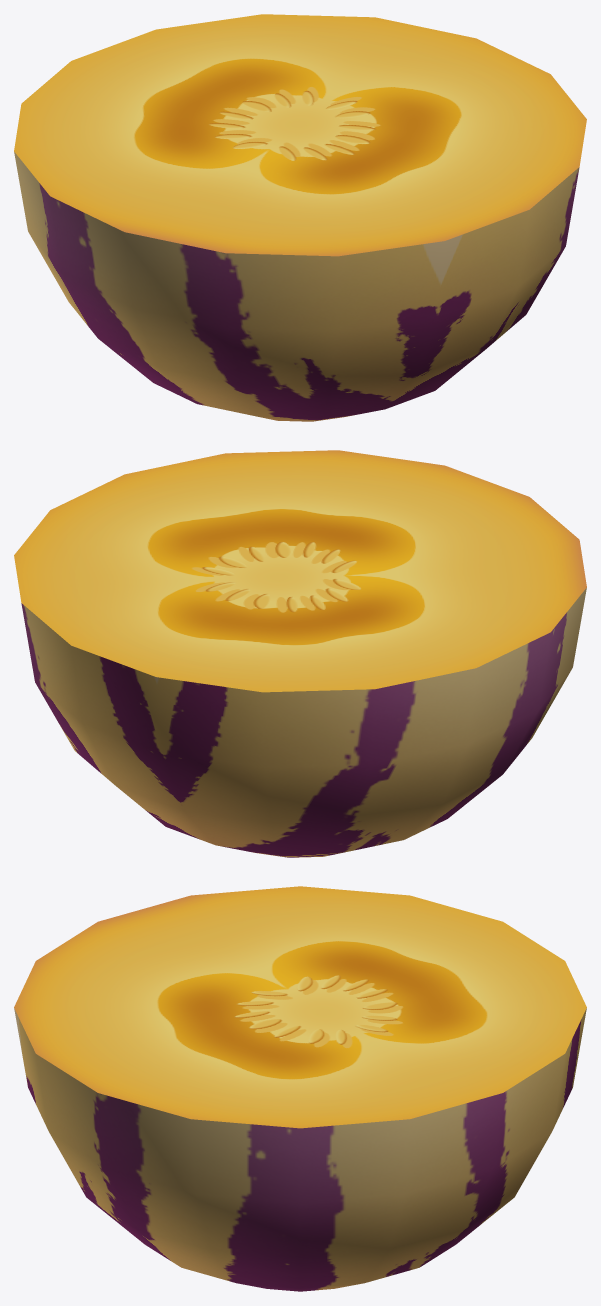
The model's file is Star_Apple_02_Half.fbx.
3 renders of one model, top to bottom at view 1: azimuth 30°, elevation 25°; view 2: azimuth 150°, elevation 25°; view 3: azimuth 270°, elevation 25°, orthographic.
Visible parts, largest first — view 1: Star_Apple_02_Half; view 2: Star_Apple_02_Half; view 3: Star_Apple_02_Half.
Part boxes in pixels (x1=…): Star_Apple_02_Half: x1=14, y1=14, x2=586, y2=421; Star_Apple_02_Half: x1=14, y1=450, x2=586, y2=857; Star_Apple_02_Half: x1=14, y1=886, x2=586, y2=1291.
Bounding box in the file's own units: 33.74 × 16.87 × 33.74.
